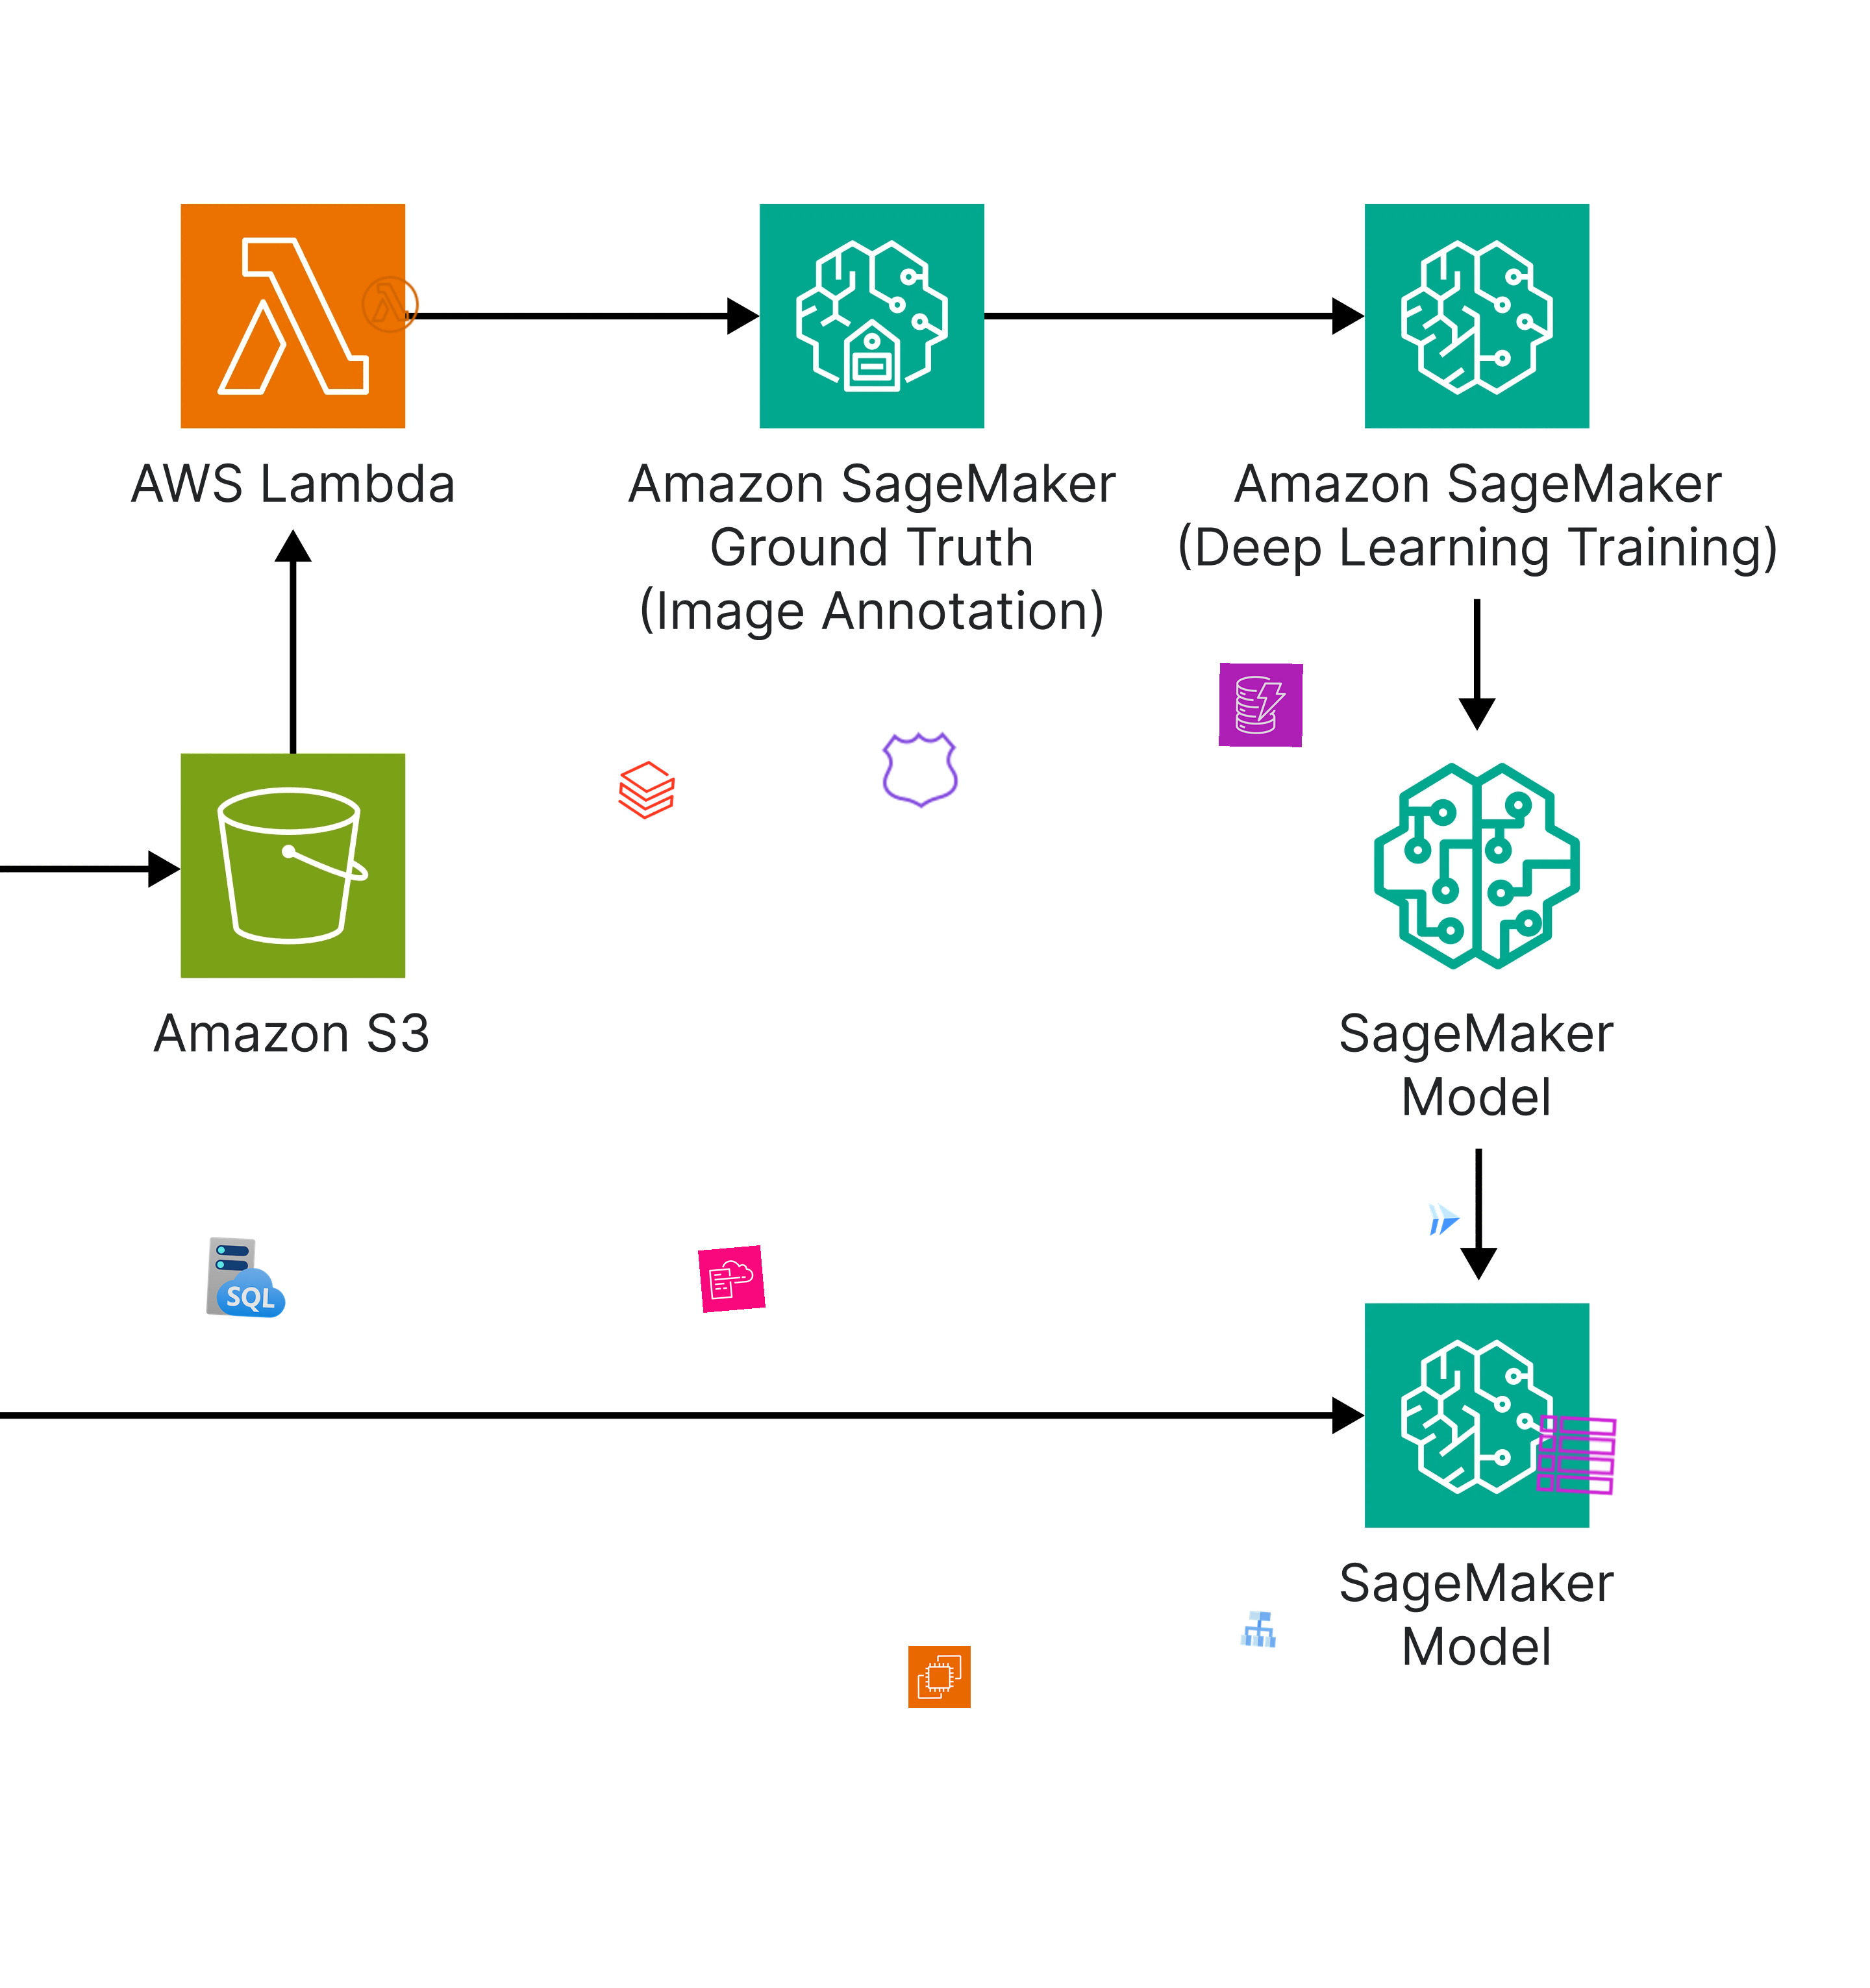aws_amazon_dynamodb: (1218, 663, 1302, 747)
aws_amazon_ec2: (907, 1645, 972, 1709)
aws_cloudformation: (698, 1244, 766, 1313)
aws_dynamodb_table: (1533, 1411, 1620, 1499)
aws_lambda_lambda_function: (359, 272, 424, 337)
aws_route_53_hosted_zone: (877, 726, 965, 814)
azure_databricks: (613, 756, 680, 824)
azure_sql_managed_instance: (204, 1234, 292, 1322)
gcp_cloud_load_balancing: (1236, 1607, 1281, 1652)
gcp_cloud_run: (1422, 1197, 1466, 1241)
